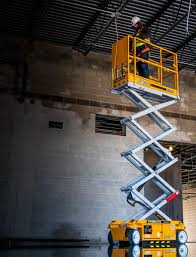Scissor Lift: (107, 34, 189, 257)
